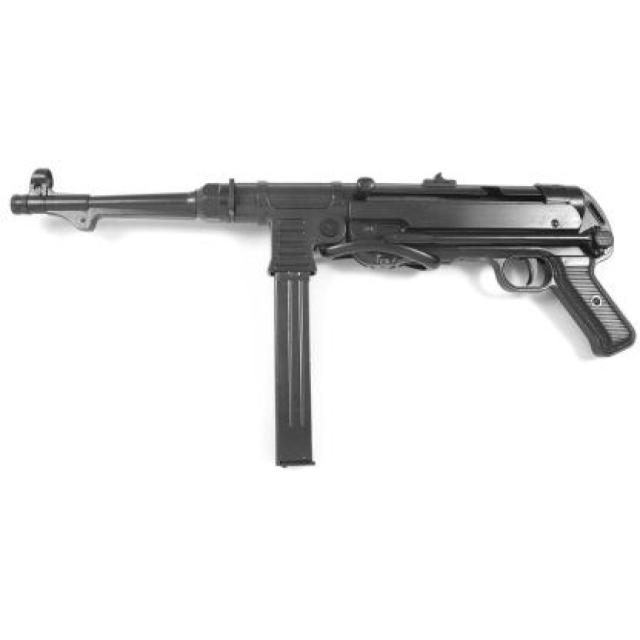weapon: (9, 168, 637, 470)
